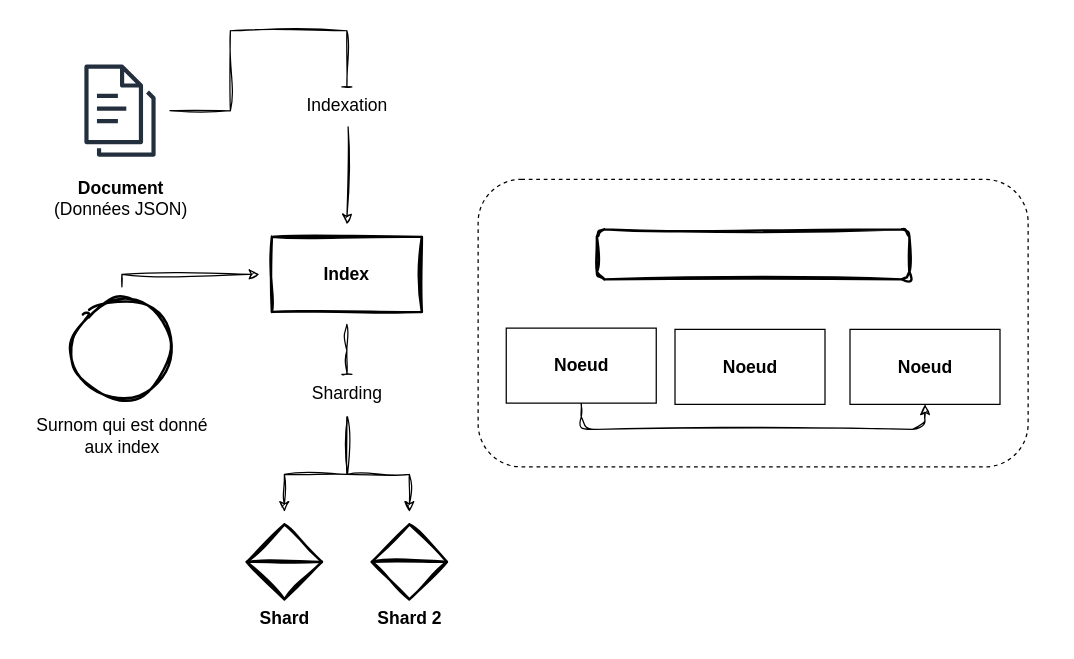
This 1074x659 diagram has some shape labels left out. Here are the shapes that lost their labels. From the top down, the centre of each, then its label:
the point at 752,254: Cluster
the point at 121,349: Alias d'Index
